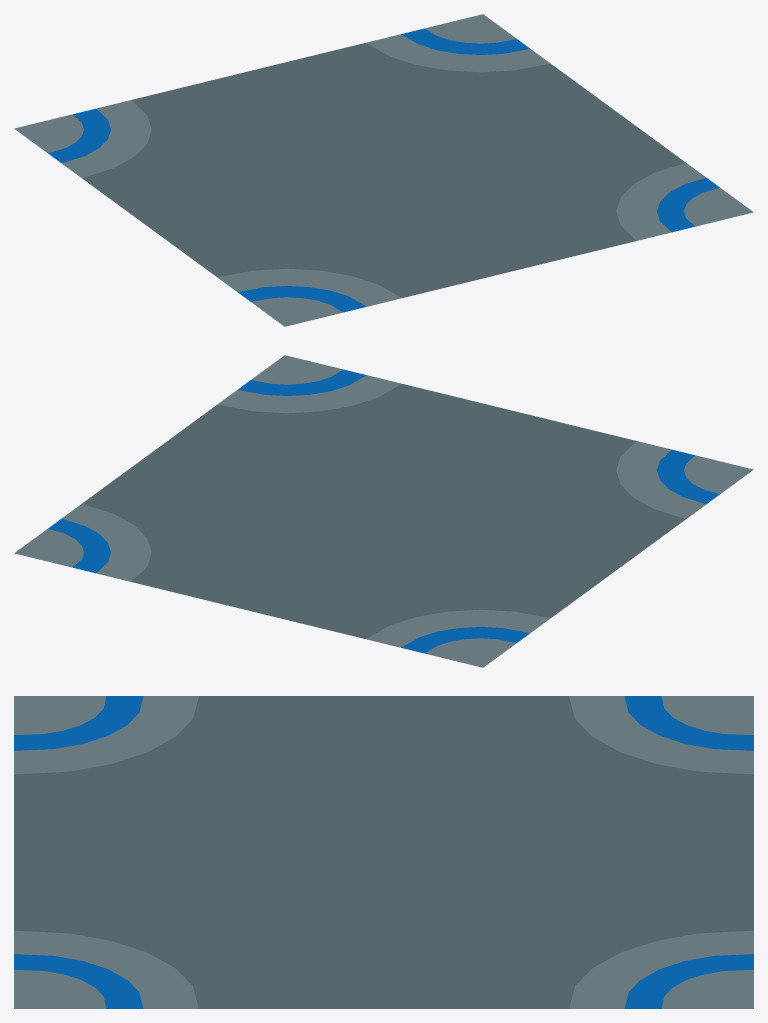
Rendered from Ceiling_type_C_044.fbx.
The picture shows the model from 3 angles, top to bottom: view 1: azimuth 30°, elevation 25°; view 2: azimuth 150°, elevation 25°; view 3: azimuth 270°, elevation 25°; orthographic projection. The views are drawn at different scales.
Parts seen in each view (by area): view 1: Ceiling_type_C_044; view 2: Ceiling_type_C_044; view 3: Ceiling_type_C_044.
Part boxes in pixels (<box>): Ceiling_type_C_044: <box>14,14,753,326</box>; Ceiling_type_C_044: <box>14,355,753,667</box>; Ceiling_type_C_044: <box>14,696,753,1008</box>.
Bounding box in the file's own units: 400 × 400 × 1.2.
